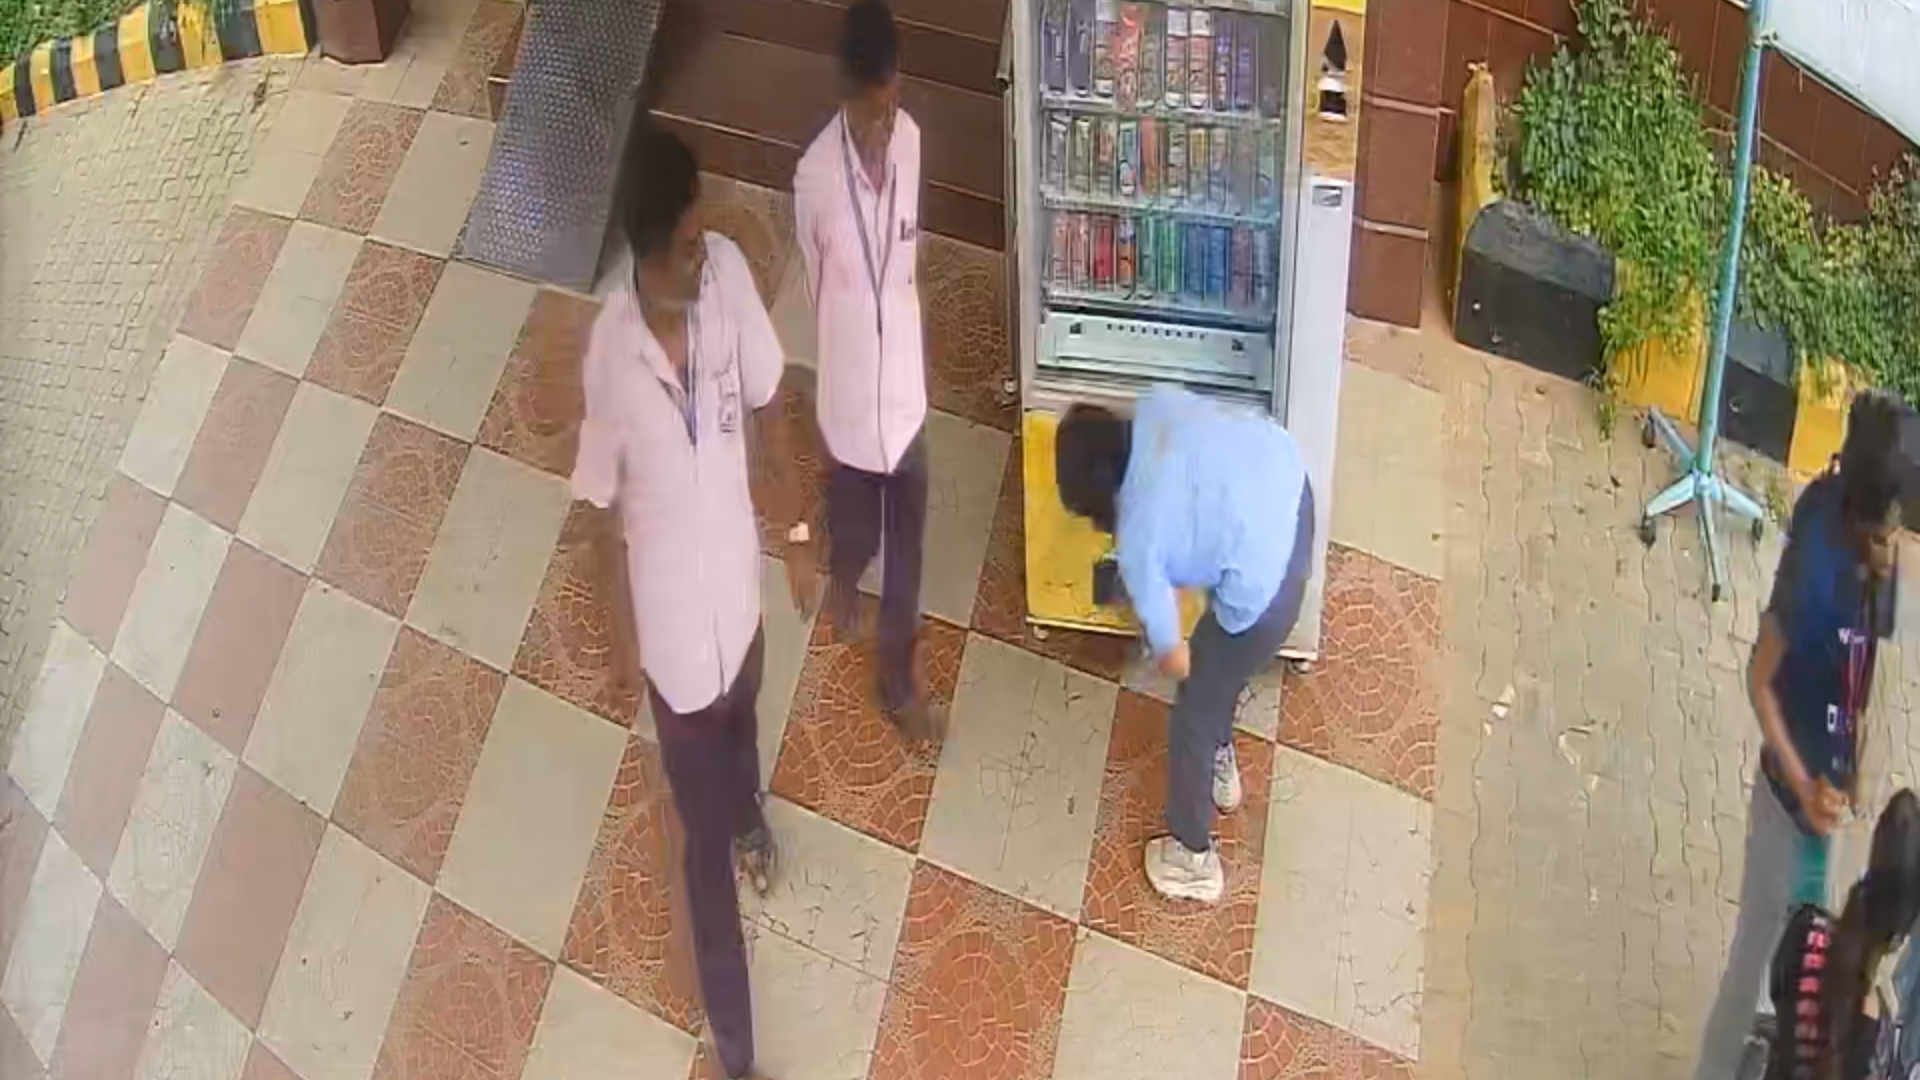not intruder: (595, 142, 794, 1040), (795, 1, 980, 738)
